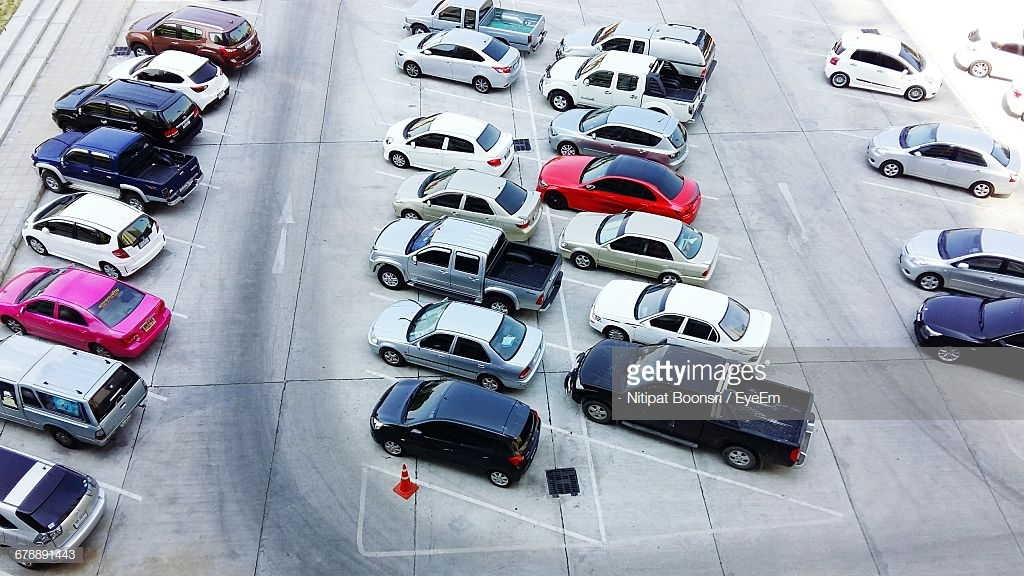car: (371, 369, 564, 495), (369, 212, 565, 319), (2, 327, 152, 464), (590, 267, 781, 358), (365, 291, 544, 386), (1, 265, 183, 357), (865, 113, 1020, 209), (32, 126, 207, 208), (557, 203, 723, 288), (538, 50, 712, 130), (537, 150, 714, 228), (22, 189, 170, 278), (391, 160, 549, 242), (51, 73, 208, 145), (558, 10, 720, 78), (825, 15, 947, 103), (124, 3, 268, 71), (548, 102, 692, 170), (382, 105, 518, 176), (900, 218, 1024, 295), (395, 30, 523, 98), (403, 1, 554, 52), (108, 48, 233, 107)
